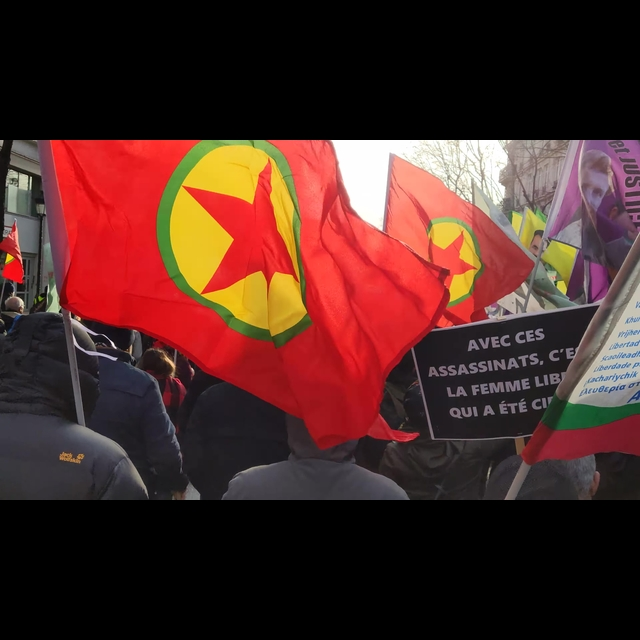PKK: (26, 137, 449, 442), (377, 148, 536, 331)
